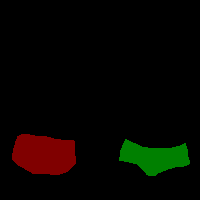mutande: (118, 138, 190, 176), (12, 134, 76, 175)
